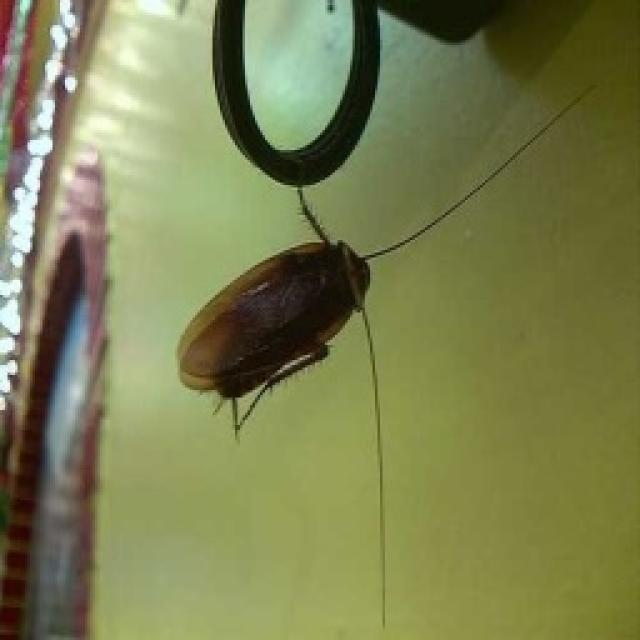cockroach: (174, 239, 372, 399)
